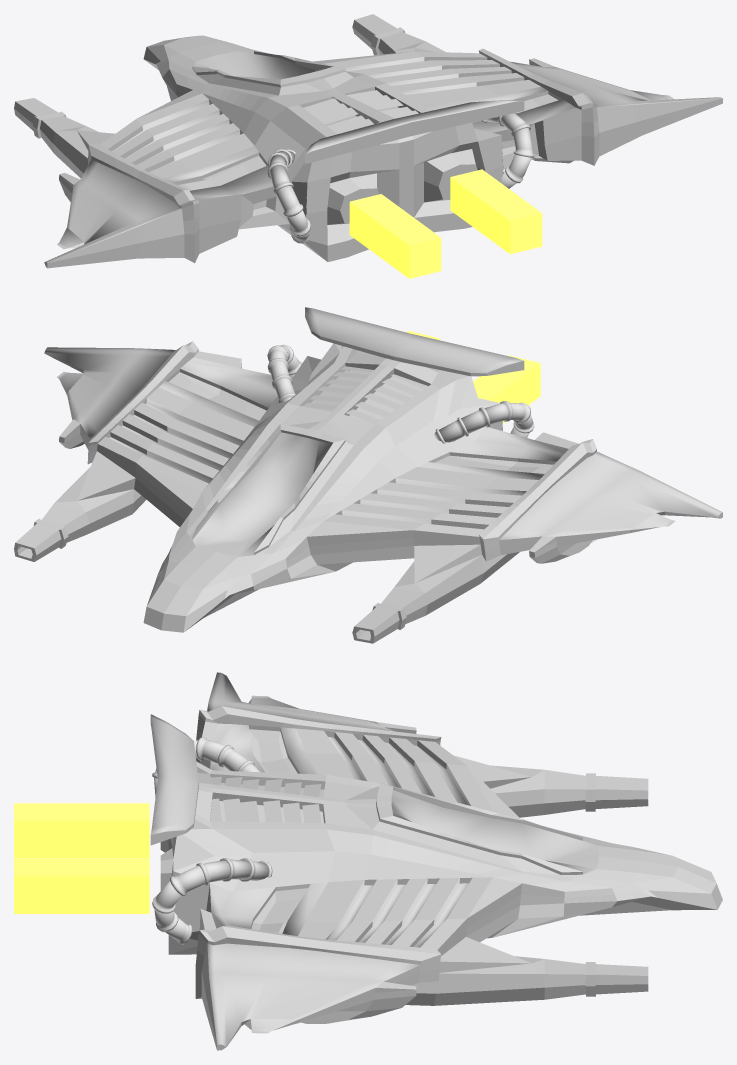
File: player_ship.glb
3 renders of one model, top to bottom at view 1: azimuth 30°, elevation 25°; view 2: azimuth 150°, elevation 25°; view 3: azimuth 270°, elevation 25°, orthographic. The views are drawn at different scales.
Visible parts, largest first — view 1: MainObject, Booster, Cylinder, Cylinder.001; view 2: MainObject, Booster, Cylinder, Cylinder.001; view 3: MainObject, Booster, Cylinder.001, Cylinder.
Boxes of the visible parts, bbox=[...] form: MainObject: bbox=[14, 14, 722, 268]; Booster: bbox=[349, 169, 542, 278]; Cylinder: bbox=[267, 149, 310, 243]; Cylinder.001: bbox=[473, 113, 534, 188]; MainObject: bbox=[14, 307, 722, 643]; Booster: bbox=[406, 330, 540, 423]; Cylinder: bbox=[434, 401, 534, 443]; Cylinder.001: bbox=[267, 344, 302, 403]; MainObject: bbox=[150, 672, 722, 1050]; Booster: bbox=[14, 803, 149, 913]; Cylinder.001: bbox=[152, 858, 272, 944]; Cylinder: bbox=[152, 737, 260, 797].
Bounding box in the file's own units: 6.86 × 1.2 × 5.52.
